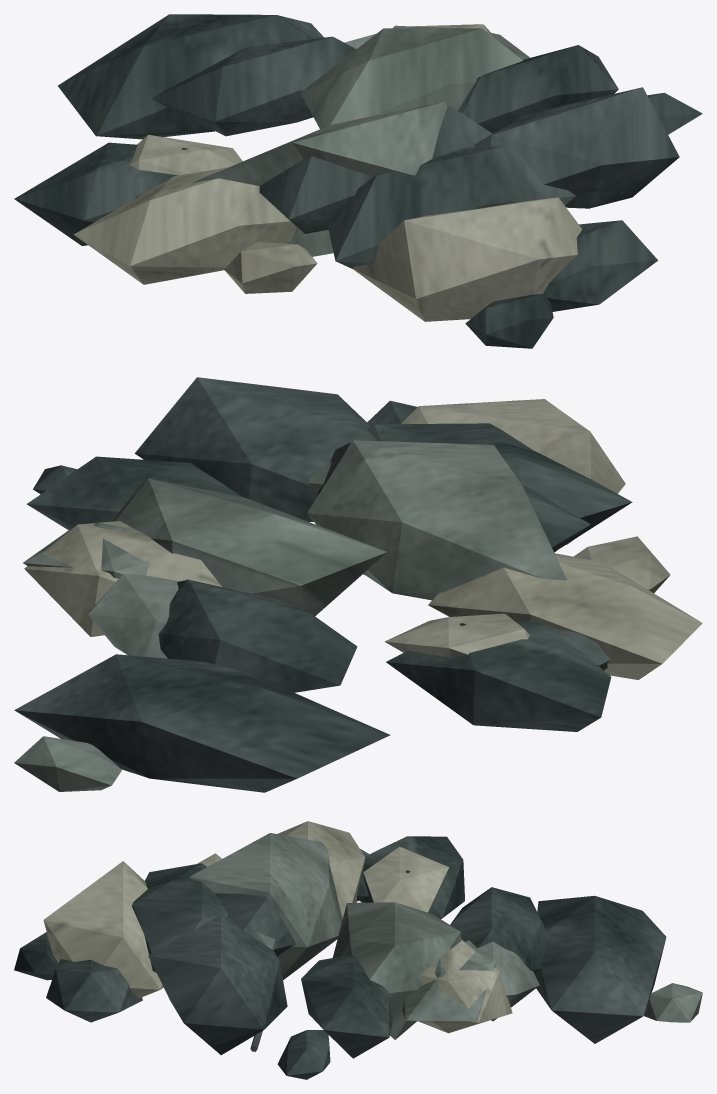
Rendered from 0102_scree_pile_02.glb.
The picture shows the model from 3 angles, top to bottom: view 1: azimuth 30°, elevation 25°; view 2: azimuth 150°, elevation 25°; view 3: azimuth 270°, elevation 25°; orthographic projection. The views are drawn at different scales.
Parts seen in each view (by area): view 1: stone_dark, stone_light, stone; view 2: stone_dark, stone, stone_light; view 3: stone_dark, stone, stone_light.
Part boxes in pixels (x1,y1,x2,y2): stone_dark: (14, 14, 702, 348); stone_light: (73, 24, 582, 321); stone: (192, 25, 530, 256); stone_dark: (14, 377, 632, 792); stone: (14, 440, 567, 791); stone_light: (24, 399, 702, 679); stone_dark: (14, 836, 666, 1079); stone: (189, 833, 702, 1039); stone_light: (43, 821, 512, 1033).
Size of the model in its own units: 2.41 by 0.6161 by 2.84.
4 materials, 4 textured.
